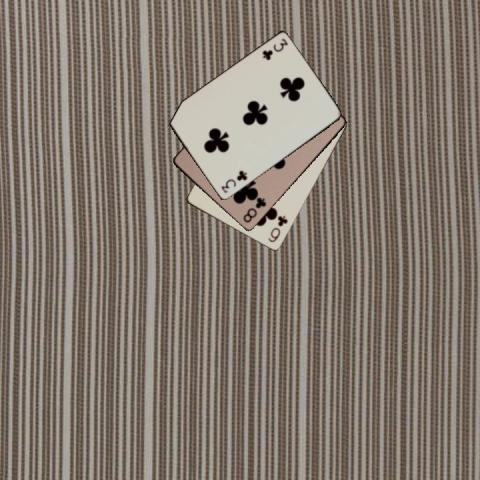3c: (218, 167, 249, 195), (260, 36, 290, 62)
6c: (265, 213, 289, 244)
8c: (240, 194, 267, 224)
